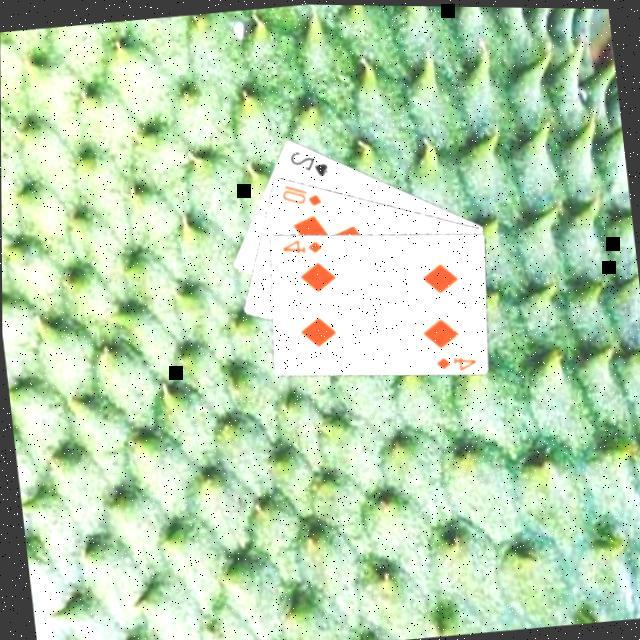10D: (276, 178, 323, 213)
2S: (285, 145, 330, 183)
4D: (276, 234, 324, 260), (430, 350, 478, 376)
